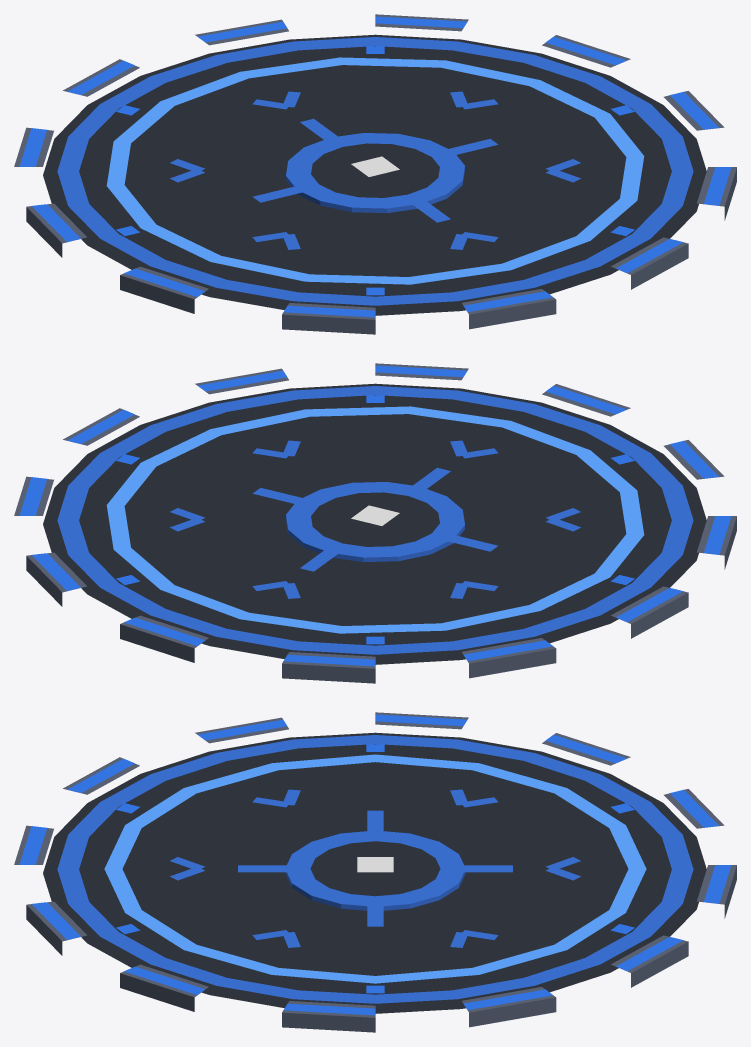
Rendered from rifleman_super_rare_area.glb.
3 renders of one model, top to bottom at view 1: azimuth 30°, elevation 25°; view 2: azimuth 150°, elevation 25°; view 3: azimuth 270°, elevation 25°, orthographic.
Parts seen in each view (by area): view 1: rifleman_super_rare_area; view 2: rifleman_super_rare_area; view 3: rifleman_super_rare_area.
Part boxes in pixels (bbox=[...]): rifleman_super_rare_area: bbox=[14, 14, 736, 334]; rifleman_super_rare_area: bbox=[14, 363, 736, 683]; rifleman_super_rare_area: bbox=[14, 712, 736, 1032].
Size of the model in its own units: 2 by 0.046 by 2.
Materials: 2 (2 with a texture image).
